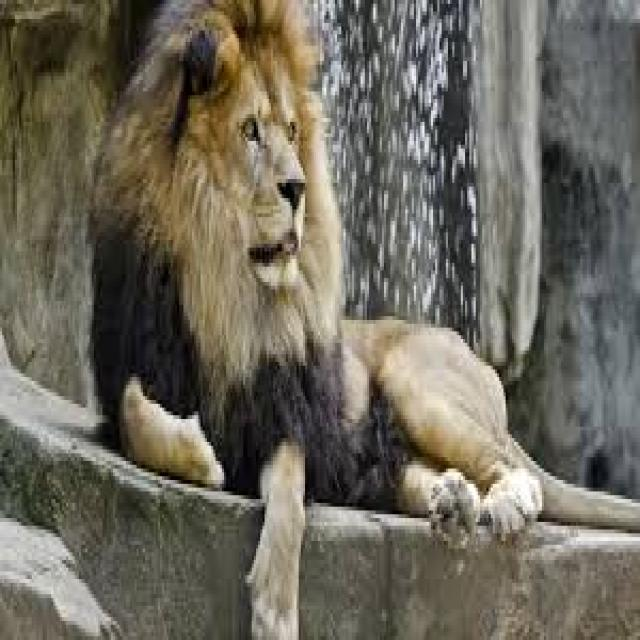Lion: (84, 0, 638, 636)
